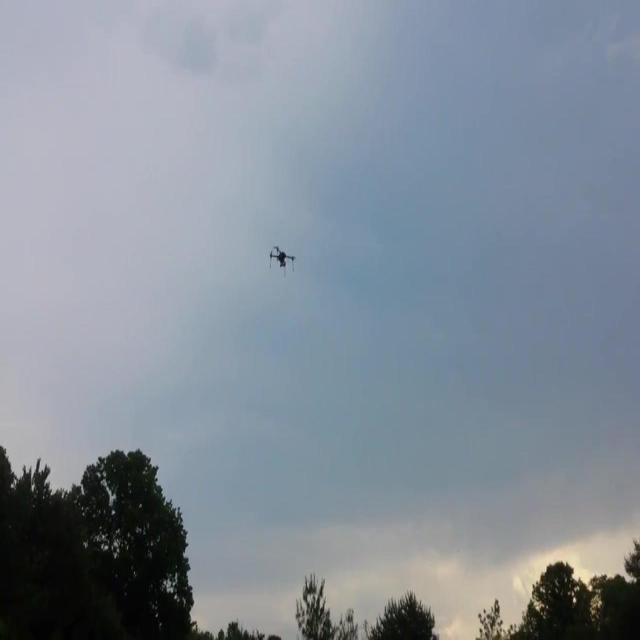drone: (267, 242, 296, 278)
